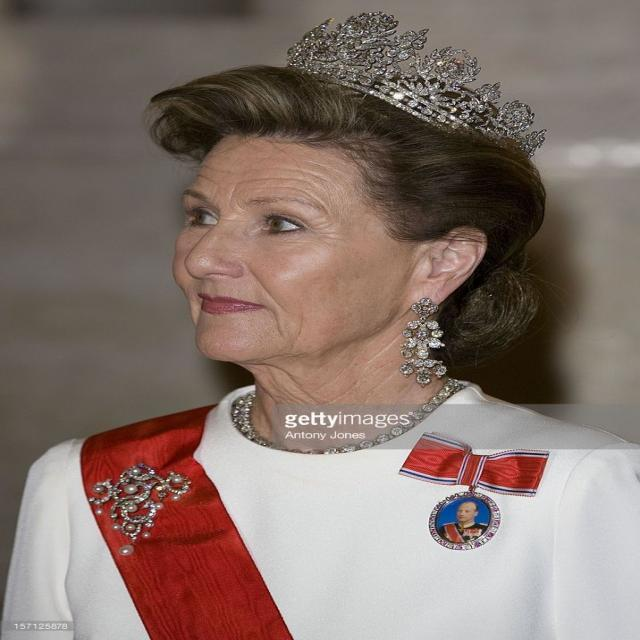Earring: (387, 290, 460, 400)
